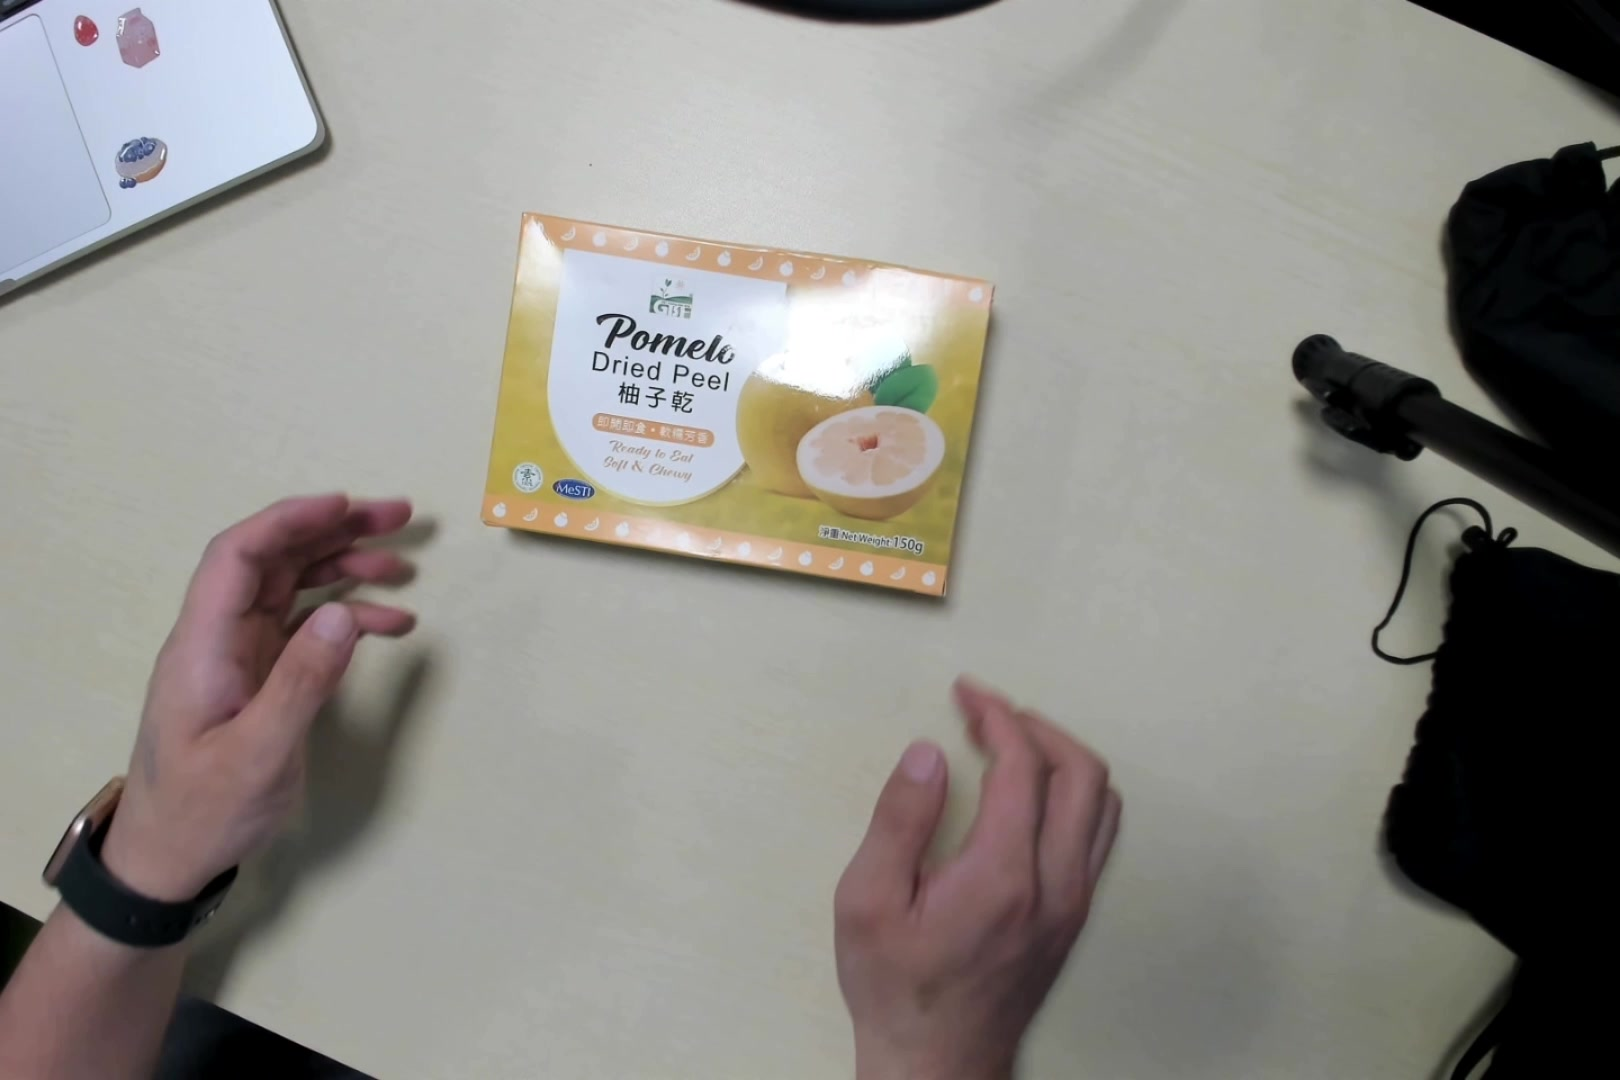DriedVegetables_100-199g_NonHalal_NonHealthy: (486, 205, 994, 600)
